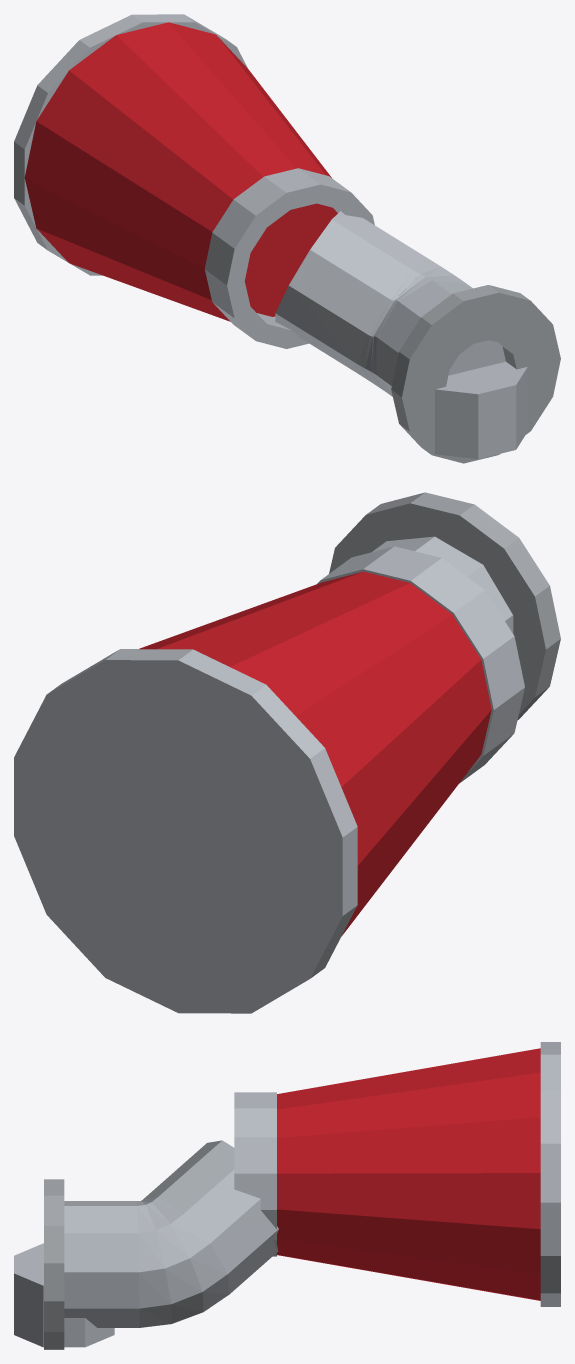
The model's file is kaze_gt.glb.
3 renders of one model, top to bottom at view 1: azimuth 30°, elevation 25°; view 2: azimuth 150°, elevation 25°; view 3: azimuth 270°, elevation 25°, orthographic. The views are drawn at different scales.
Parts seen in each view (by area): view 1: model; view 2: model; view 3: model.
Part boxes in pixels (x1,y1,x2,y2): model: (14, 14, 560, 463); model: (14, 492, 560, 1013); model: (14, 1042, 560, 1349).
Size of the model in its own units: 0.1773 by 0.1629 by 0.3216.
2 materials, 1 textured.
